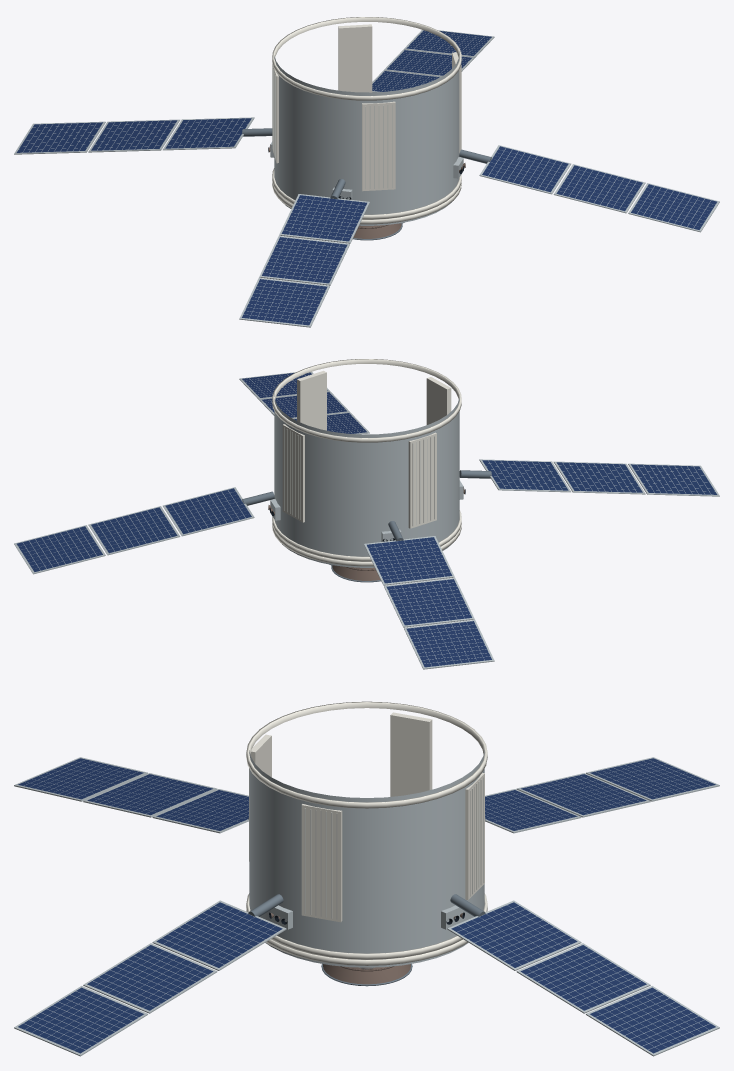
The model's file is orion_esm.glb.
3 renders of one model, top to bottom at view 1: azimuth 30°, elevation 25°; view 2: azimuth 150°, elevation 25°; view 3: azimuth 270°, elevation 25°, orthographic. The views are drawn at different scales.
Parts seen in each view (by area): view 1: orion_esm.mesh_Satin_aluminum, orion_esm.mesh_Warm_white_enamel, orion_esm.radiator_04.mesh_Warm_white_enamel, orion_esm.wing_04.panel_01.cells.mesh_Indigo_solar_cells, orion_esm.wing_04.panel_01.panel_02.cells.mesh_Indigo_solar_, orion_esm.wing_04.panel_01.panel_02.panel_03.cells.mesh_Indi, orion_esm.radiator_02.mesh_Warm_white_enamel, orion_esm.wing_01.panel_01.cells.mesh_Indigo_solar_cells, orion_esm.wing_01.panel_01.panel_02.cells.mesh_Indigo_solar_, orion_esm.wing_01.panel_01.panel_02.panel_03.cells.mesh_Indi, orion_esm.wing_03.panel_01.panel_02.cells.mesh_Indigo_solar_, orion_esm.wing_03.panel_01.panel_02.panel_03.cells.mesh_Indi (+17 smaller); view 2: orion_esm.mesh_Satin_aluminum, orion_esm.mesh_Warm_white_enamel, orion_esm.wing_03.panel_01.cells.mesh_Indigo_solar_cells, orion_esm.wing_03.panel_01.panel_02.cells.mesh_Indigo_solar_, orion_esm.wing_03.panel_01.panel_02.panel_03.cells.mesh_Indi, orion_esm.radiator_03.mesh_Warm_white_enamel, orion_esm.wing_02.panel_01.cells.mesh_Indigo_solar_cells, orion_esm.wing_02.panel_01.panel_02.cells.mesh_Indigo_solar_, orion_esm.wing_02.panel_01.panel_02.panel_03.cells.mesh_Indi, orion_esm.wing_04.panel_01.panel_02.cells.mesh_Indigo_solar_, orion_esm.wing_04.panel_01.panel_02.panel_03.cells.mesh_Indi, orion_esm.wing_04.panel_01.cells.mesh_Indigo_solar_cells (+18 smaller); view 3: orion_esm.mesh_Satin_aluminum, orion_esm.mesh_Warm_white_enamel, orion_esm.radiator_01.mesh_Warm_white_enamel, orion_esm.wing_01.panel_01.cells.mesh_Indigo_solar_cells, orion_esm.wing_01.panel_01.panel_02.panel_03.cells.mesh_Indi, orion_esm.wing_02.panel_01.cells.mesh_Indigo_solar_cells, orion_esm.wing_02.panel_01.panel_02.panel_03.cells.mesh_Indi, orion_esm.wing_01.panel_01.panel_02.cells.mesh_Indigo_solar_, orion_esm.wing_02.panel_01.panel_02.cells.mesh_Indigo_solar_, orion_esm.radiator_03.mesh_Warm_white_enamel, orion_esm.wing_03.panel_01.panel_02.panel_03.cells.mesh_Indi, orion_esm.wing_04.panel_01.panel_02.panel_03.cells.mesh_Indi (+21 smaller).
Boxes of the visible parts, box(x1,y1,x2,y2) form: orion_esm.mesh_Satin_aluminum: box(274, 51, 459, 225); orion_esm.mesh_Warm_white_enamel: box(272, 17, 461, 224); orion_esm.radiator_04.mesh_Warm_white_enamel: box(362, 101, 395, 191); orion_esm.wing_04.panel_01.cells.mesh_Indigo_solar_cells: box(281, 195, 366, 241); orion_esm.wing_04.panel_01.panel_02.cells.mesh_Indigo_solar_: box(262, 237, 347, 283); orion_esm.wing_04.panel_01.panel_02.panel_03.cells.mesh_Indi: box(242, 279, 327, 325); orion_esm.radiator_02.mesh_Warm_white_enamel: box(338, 24, 372, 92); orion_esm.wing_01.panel_01.cells.mesh_Indigo_solar_cells: box(482, 146, 568, 192); orion_esm.wing_01.panel_01.panel_02.cells.mesh_Indigo_solar_: box(556, 165, 642, 211); orion_esm.wing_01.panel_01.panel_02.panel_03.cells.mesh_Indi: box(631, 184, 716, 229); orion_esm.wing_03.panel_01.panel_02.cells.mesh_Indigo_solar_: box(91, 120, 177, 150); orion_esm.wing_03.panel_01.panel_02.panel_03.cells.mesh_Indi: box(16, 122, 102, 152); orion_esm.mesh_Satin_aluminum: box(274, 393, 459, 567); orion_esm.mesh_Warm_white_enamel: box(272, 359, 461, 566); orion_esm.wing_03.panel_01.cells.mesh_Indigo_solar_cells: box(367, 537, 452, 583); orion_esm.wing_03.panel_01.panel_02.cells.mesh_Indigo_solar_: box(386, 579, 471, 625); orion_esm.wing_03.panel_01.panel_02.panel_03.cells.mesh_Indi: box(406, 621, 491, 667); orion_esm.radiator_03.mesh_Warm_white_enamel: box(408, 432, 436, 528); orion_esm.wing_02.panel_01.cells.mesh_Indigo_solar_cells: box(165, 488, 251, 534); orion_esm.wing_02.panel_01.panel_02.cells.mesh_Indigo_solar_: box(91, 507, 177, 553); orion_esm.wing_02.panel_01.panel_02.panel_03.cells.mesh_Indi: box(17, 526, 102, 571); orion_esm.wing_04.panel_01.panel_02.cells.mesh_Indigo_solar_: box(556, 462, 642, 492); orion_esm.wing_04.panel_01.panel_02.panel_03.cells.mesh_Indi: box(631, 464, 717, 494); orion_esm.wing_04.panel_01.cells.mesh_Indigo_solar_cells: box(482, 460, 568, 490); orion_esm.mesh_Satin_aluminum: box(249, 750, 484, 967); orion_esm.mesh_Warm_white_enamel: box(246, 701, 487, 965); orion_esm.radiator_01.mesh_Warm_white_enamel: box(301, 804, 342, 922); orion_esm.wing_01.panel_01.cells.mesh_Indigo_solar_cells: box(156, 902, 282, 967); orion_esm.wing_01.panel_01.panel_02.panel_03.cells.mesh_Indi: box(18, 987, 143, 1053); orion_esm.wing_02.panel_01.cells.mesh_Indigo_solar_cells: box(451, 902, 577, 967); orion_esm.wing_02.panel_01.panel_02.panel_03.cells.mesh_Indi: box(590, 987, 715, 1053); orion_esm.wing_01.panel_01.panel_02.cells.mesh_Indigo_solar_: box(87, 945, 213, 1010); orion_esm.wing_02.panel_01.panel_02.cells.mesh_Indigo_solar_: box(520, 945, 646, 1010); orion_esm.radiator_03.mesh_Warm_white_enamel: box(390, 712, 432, 796); orion_esm.wing_03.panel_01.panel_02.panel_03.cells.mesh_Indi: box(590, 758, 715, 799); orion_esm.wing_04.panel_01.panel_02.panel_03.cells.mesh_Indi: box(18, 758, 143, 799).
Size of the model in its own units: 12.4 by 4.24 by 12.4.
